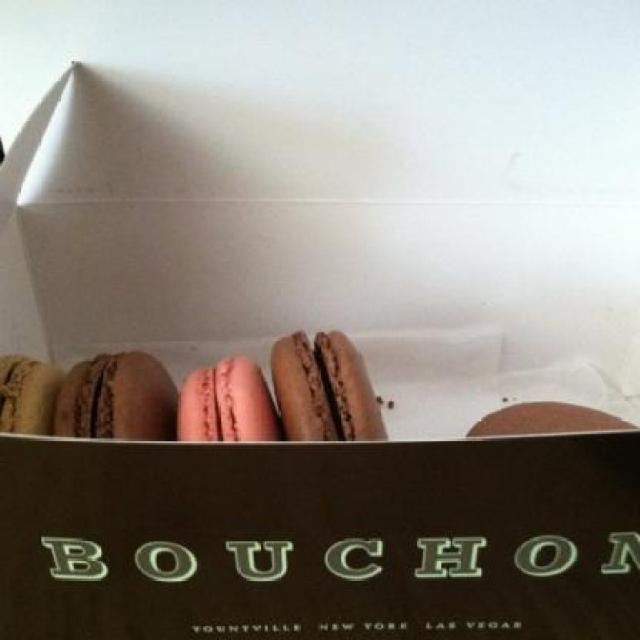Macaron: (4, 328, 638, 450)
